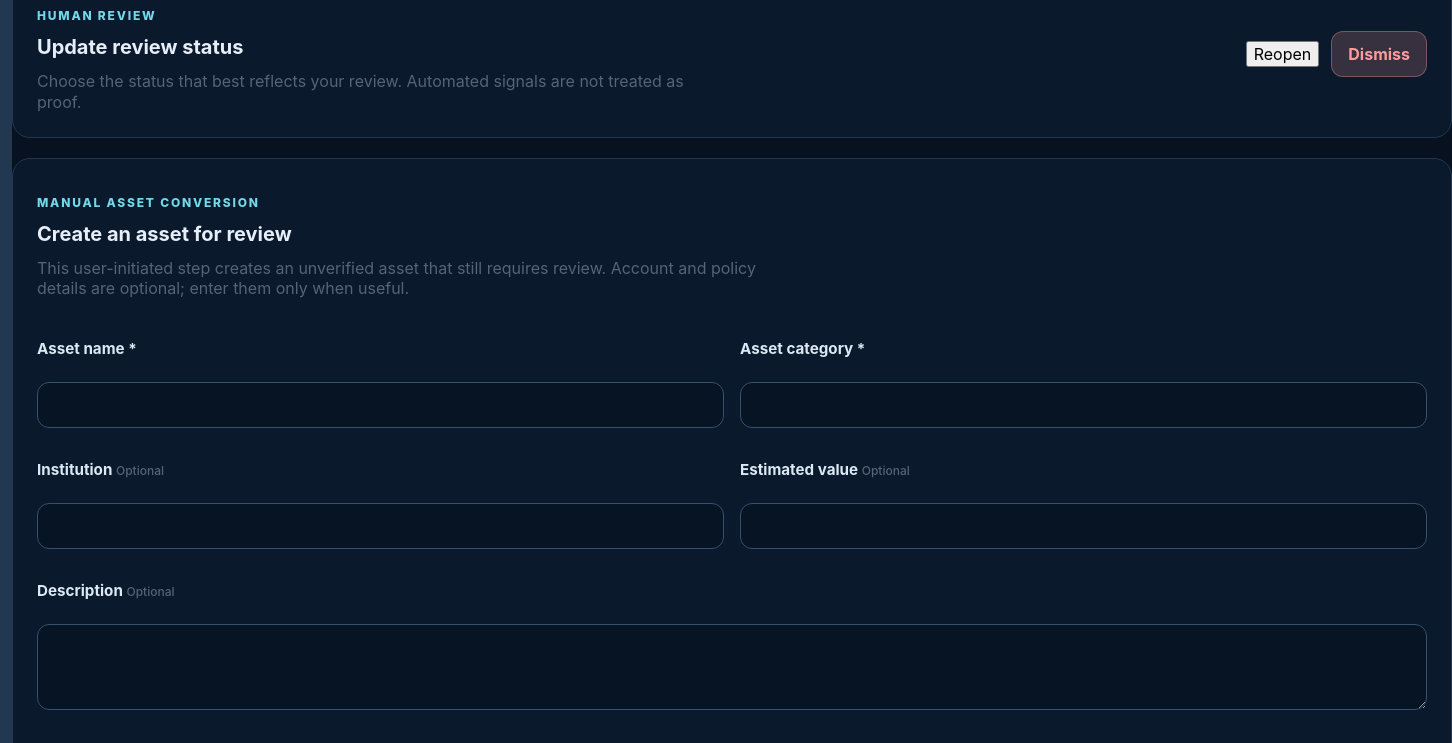
Test: FindingDetailPage › rejects a negative estimated value before making a request
The width and height of the screenshot is (1452, 743).
(page scrolled)
Type "Former employer plan" into the field labelled "Asset name *".
click(380, 405); type("Former employer plan")  # box [37,382,724,428]
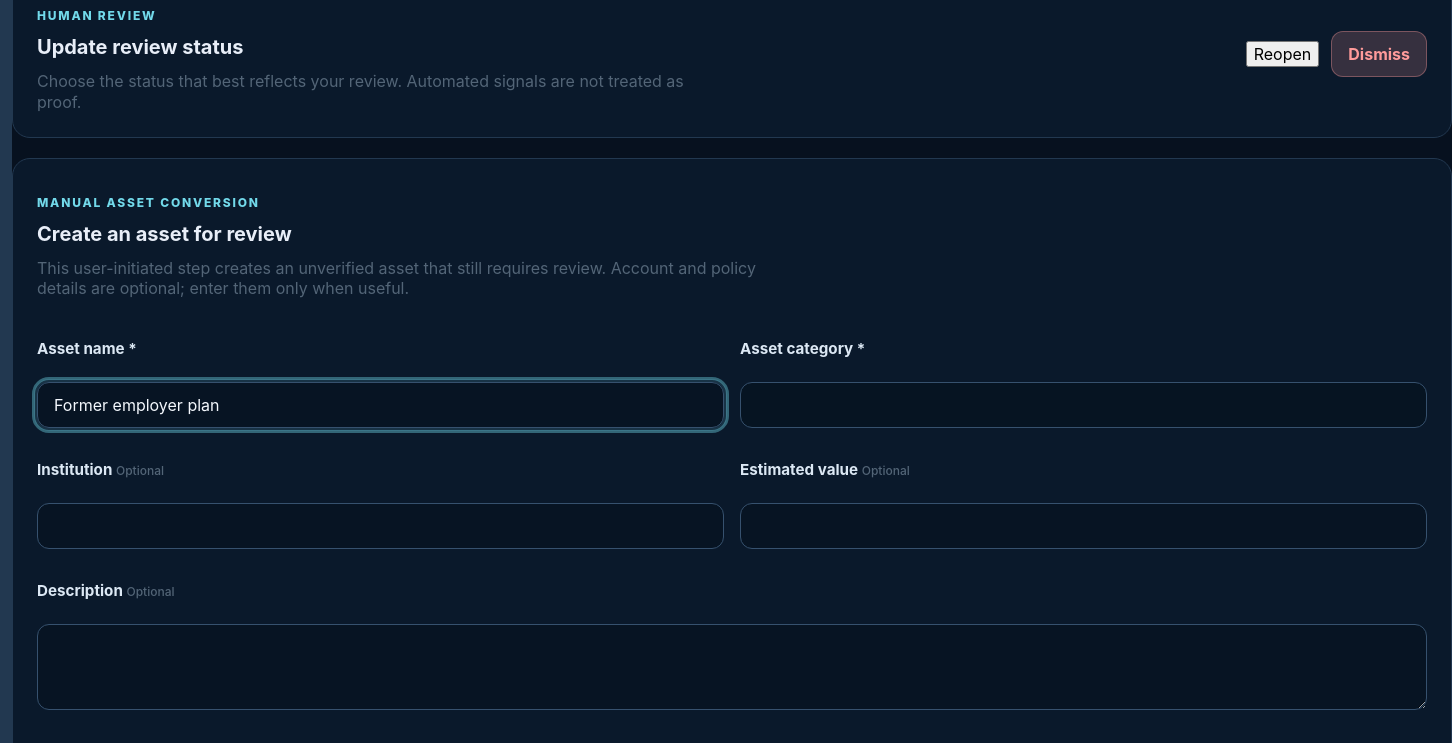
Type "Retirement" into the field labelled "Asset category *".
click(1084, 405); type("Retirement")  # box [740,382,1427,428]
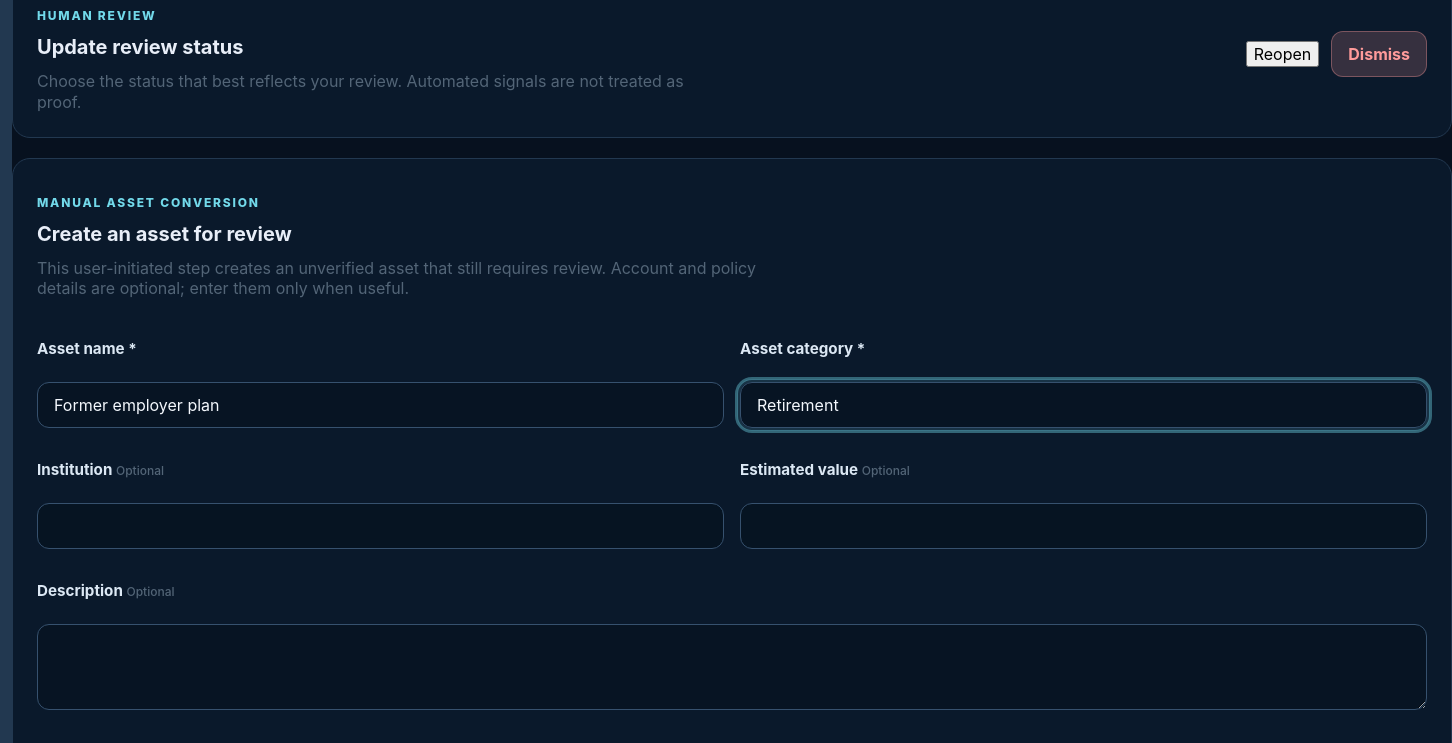
Type "-1" into the number field labelled "Estimated value Optional".
click(1084, 526); type("-1")  # box [740,503,1427,549]
(page scrolled)
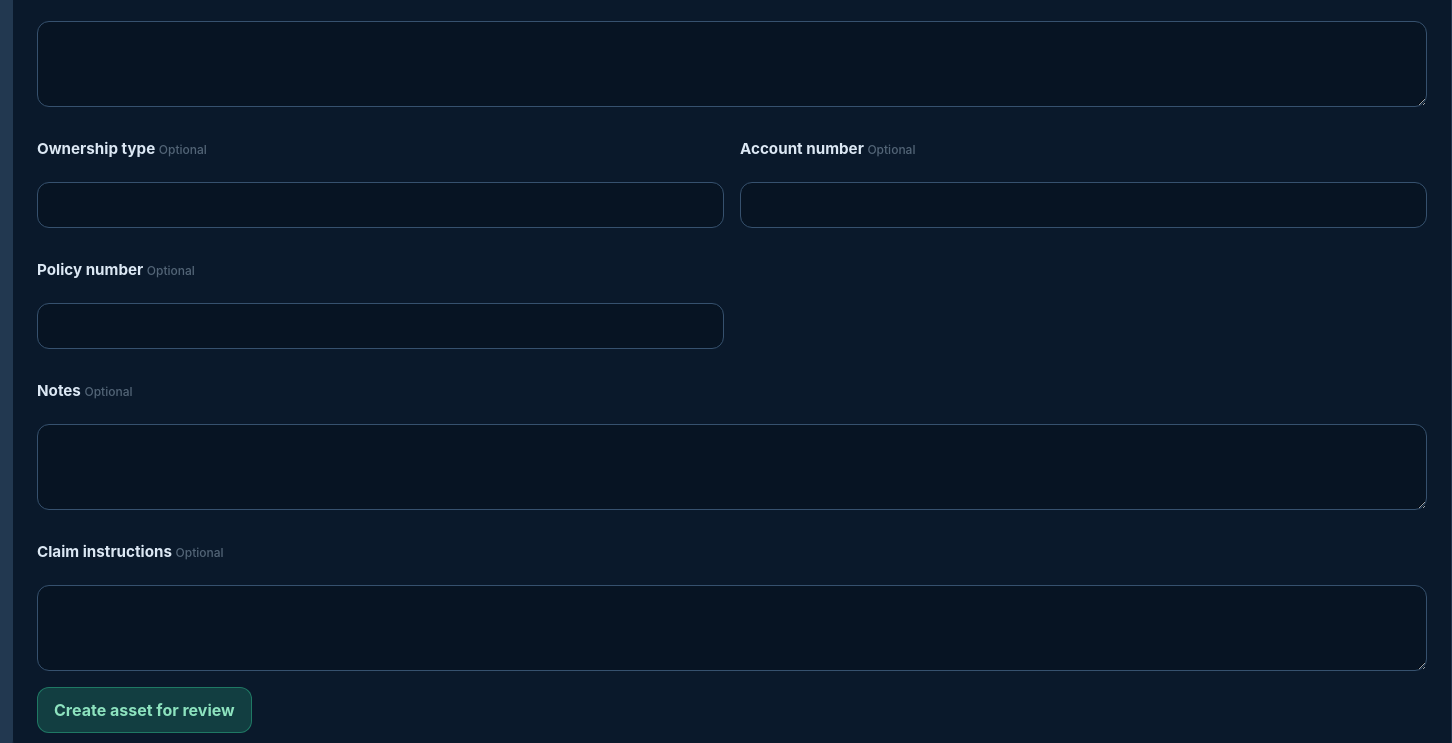
Click the button "Create asset for review".
click(144, 710)  # box [37,687,252,733]
(page scrolled)
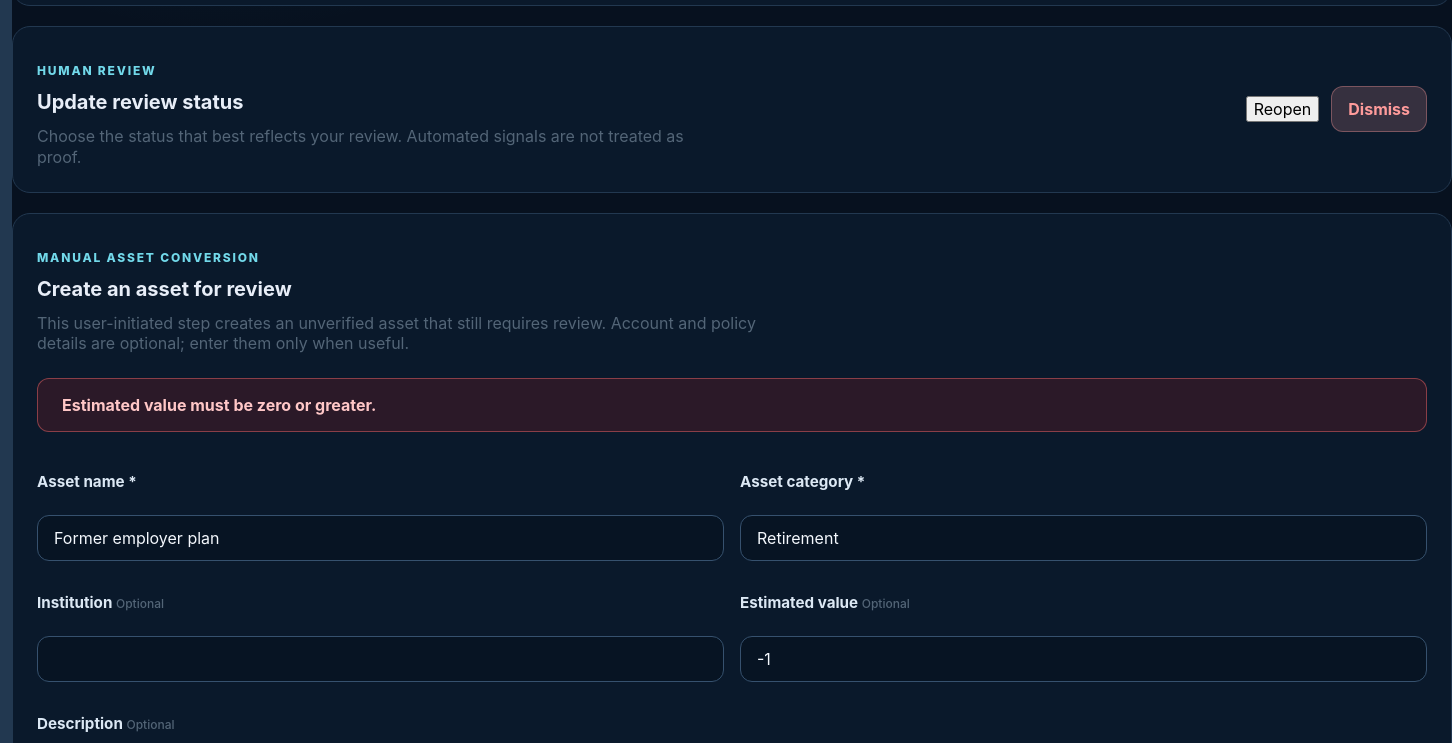
Now the message reads "Estimated value must be zero or greater.", box [62,395,376,415]
